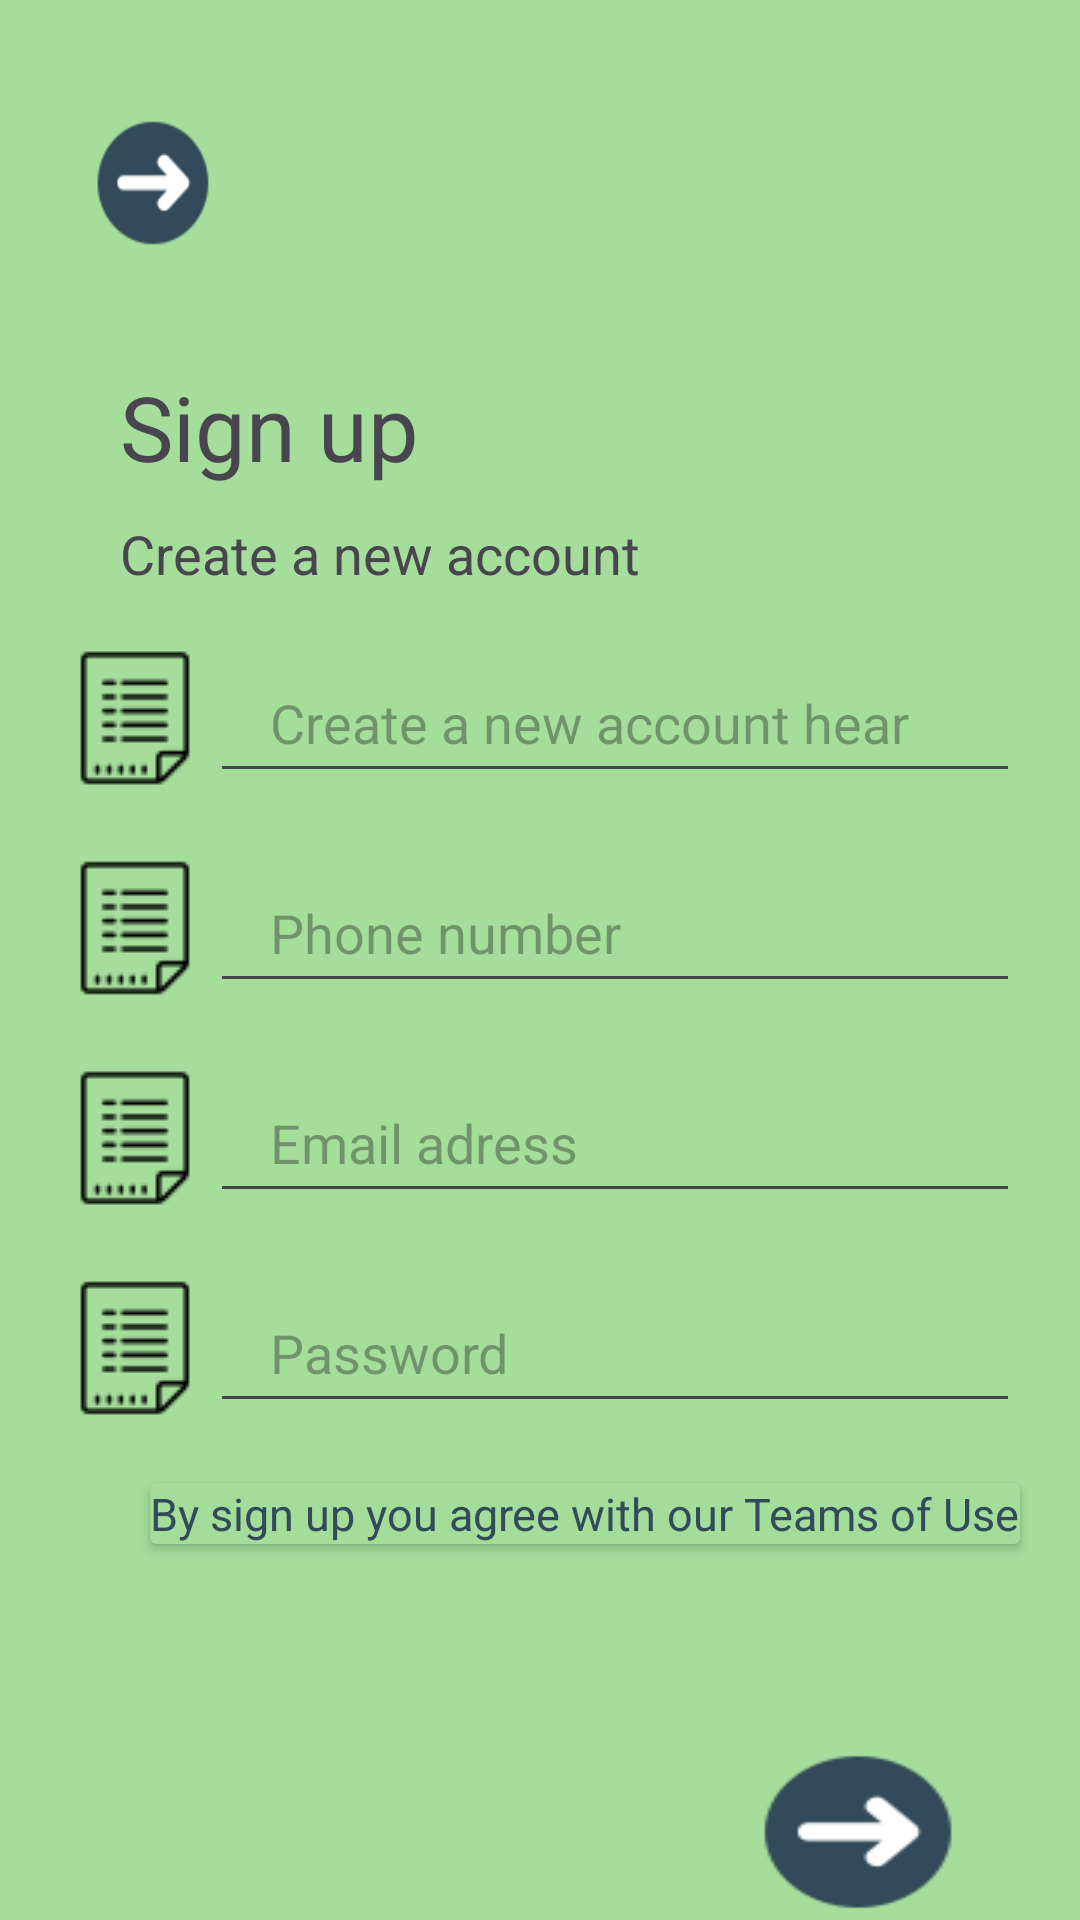

Named icons in this screenshot (1080 x 1920) and their centers, (x,y):
list: (135,718), (135,928), (135,1138), (135,1348)
right: (153,183), (858,1832)
